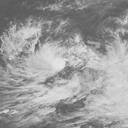cyclone: (32, 42, 112, 114)
